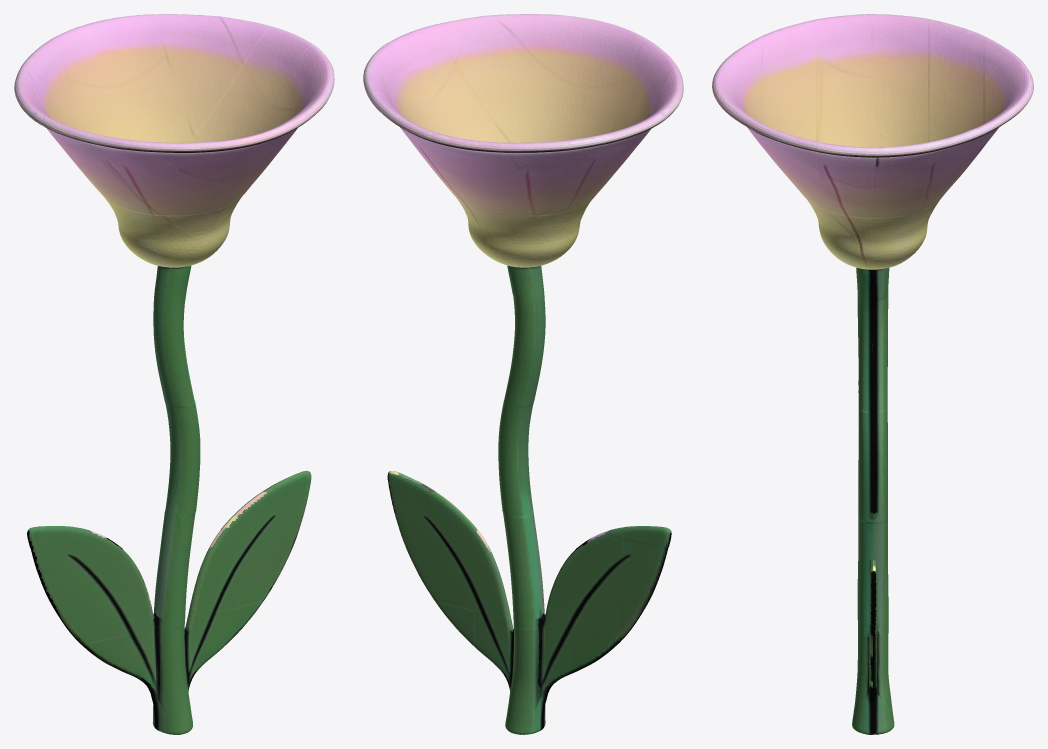
Rendered from hunyuan_alien_flower_textured.glb.
3 views of the same model, side by side, from view 1: azimuth 30°, elevation 25°; view 2: azimuth 150°, elevation 25°; view 3: azimuth 270°, elevation 25° (orthographic).
Parts seen in each view (by area): view 1: tmp4k99uegy.ply; view 2: tmp4k99uegy.ply; view 3: tmp4k99uegy.ply.
Boxes of the visible parts, box(x1,y1,x2,y2) form: tmp4k99uegy.ply: box(14, 14, 334, 734); tmp4k99uegy.ply: box(363, 14, 683, 734); tmp4k99uegy.ply: box(712, 14, 1033, 734).
Size of the model in its own units: 0.9322 by 2 by 0.8988.
1 material, 1 textured.
